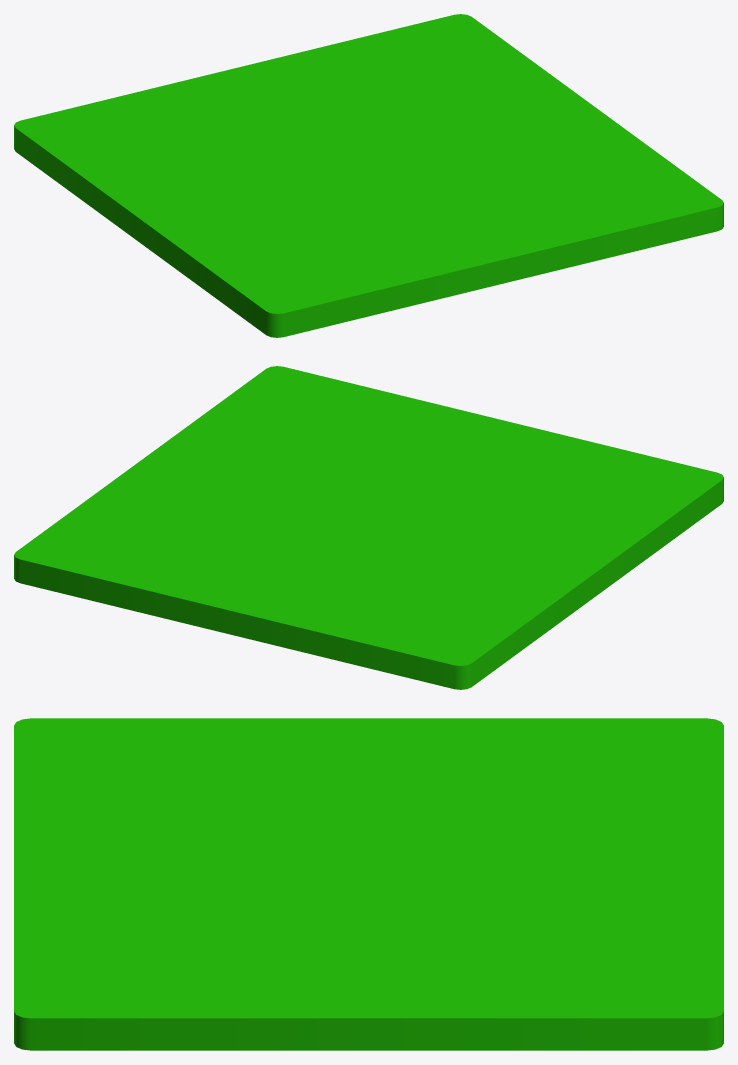
Rendered from Island.fbx.
3 views of the same model, one above another, from view 1: azimuth 30°, elevation 25°; view 2: azimuth 150°, elevation 25°; view 3: azimuth 270°, elevation 25° (orthographic). The views are drawn at different scales.
Visible parts, largest first — view 1: Cube; view 2: Cube; view 3: Cube.
Part boxes in pixels (x1,y1,x2,y2): Cube: (14, 14, 723, 337); Cube: (14, 366, 723, 689); Cube: (14, 718, 723, 1050).
Bounding box in the file's own units: 2000 × 100 × 2000.
